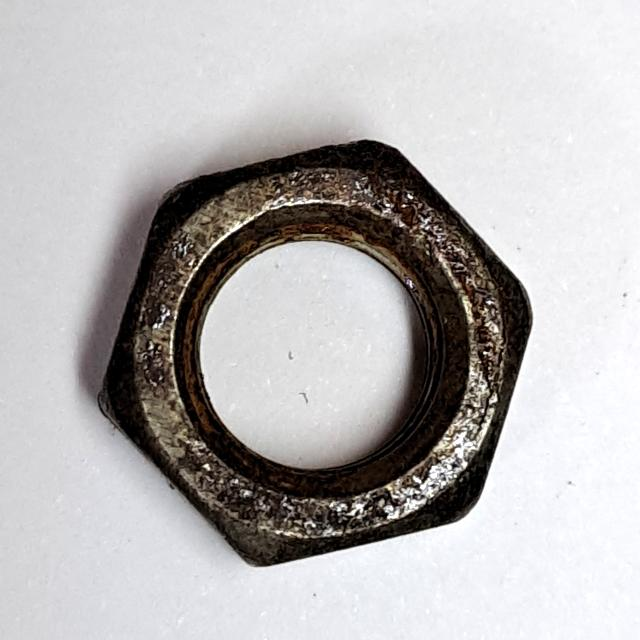Rust: (81, 124, 548, 580)
